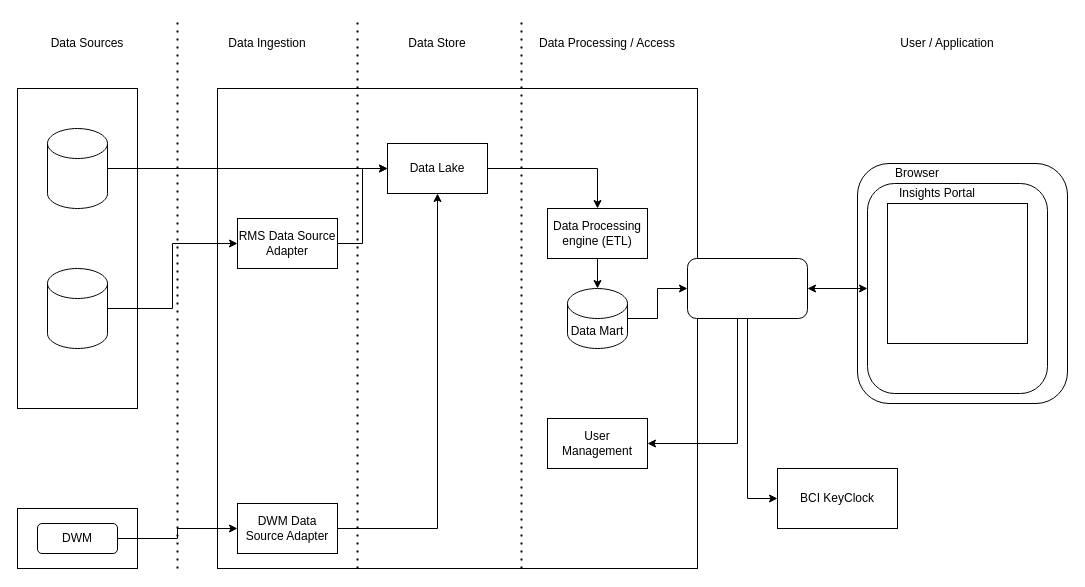
Some shapes in this 1085 by 587 pixel diagram are drawn without their labels. The centre of each missing label's shape, as x and y in pixels:
DAaas Interface: point 747,288
EBS: point 77,168
React JS,: point 957,273
RMS: point 77,308
